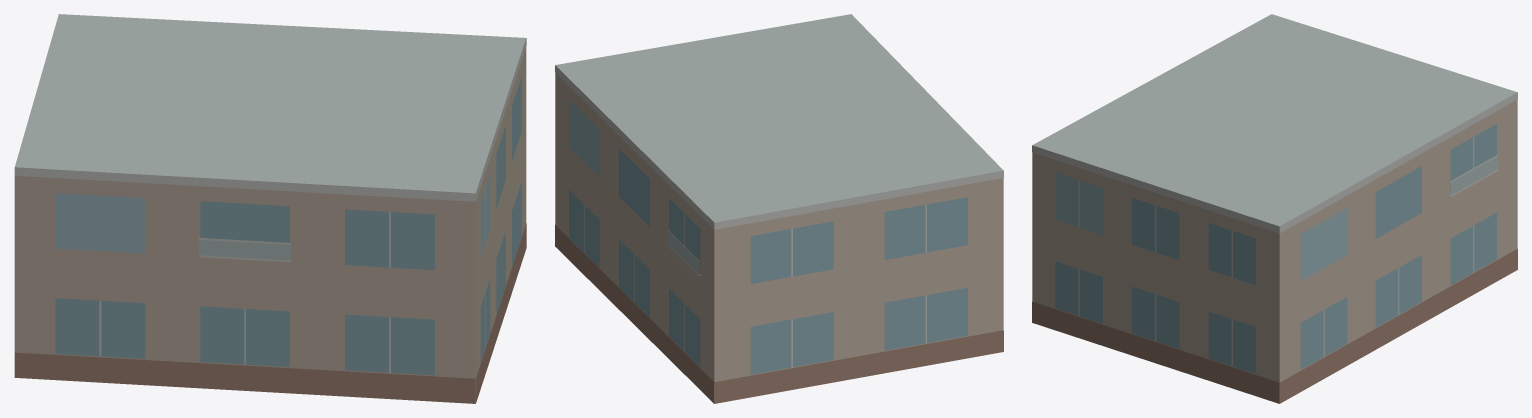
The model's file is survey-upis-32675502.glb.
3 views of the same model, side by side, from view 1: azimuth 30°, elevation 25°; view 2: azimuth 150°, elevation 25°; view 3: azimuth 270°, elevation 25° (orthographic). The views are drawn at different scales.
Parts seen in each view (by area): view 1: survey-upis-32675502.tmp; view 2: survey-upis-32675502.tmp; view 3: survey-upis-32675502.tmp.
Part boxes in pixels (<box>): survey-upis-32675502.tmp: <box>14,14,526,403</box>; survey-upis-32675502.tmp: <box>555,14,1003,403</box>; survey-upis-32675502.tmp: <box>1032,14,1517,403</box>.
Size of the model in its own units: 15.67 by 6.1 by 15.14.
